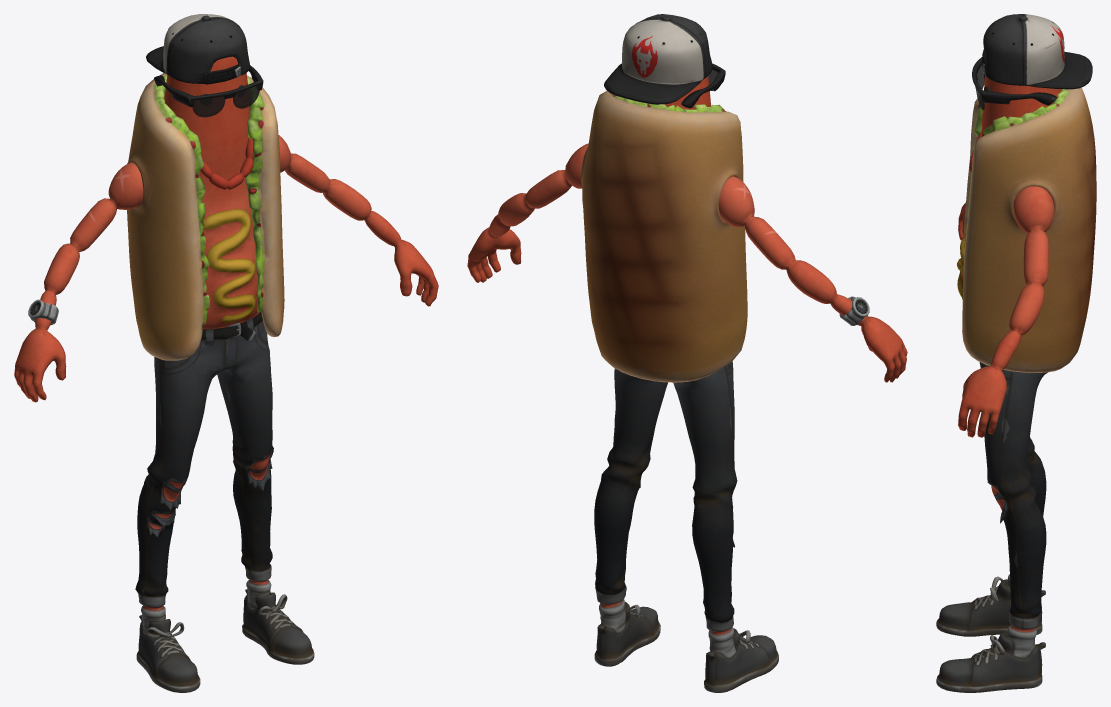
Rendered from cid_614__athena__commando_m__missing_link.glb.
3 renders of one model, left to right at view 1: azimuth 30°, elevation 25°; view 2: azimuth 150°, elevation 25°; view 3: azimuth 270°, elevation 25°, orthographic. The views are drawn at different scales.
Visible parts, largest first — view 1: 41_mesh0.001_1.0_0_0_0, 41_mesh2.001_1.0_0_0_2, 41_mesh3.001_1.0_0_0_3, 41_mesh1.001_1.0_0_0_1, 41_mesh2.001_1.0_0_0.001_6; view 2: 41_mesh0.001_1.0_0_0_0, 41_mesh2.001_1.0_0_0_2; view 3: 41_mesh0.001_1.0_0_0_0, 41_mesh2.001_1.0_0_0_2, 41_mesh3.001_1.0_0_0_3, 41_mesh2.001_1.0_0_0.001_6.
Boxes of the visible parts, x1=… form: 41_mesh0.001_1.0_0_0_0: x1=14, y1=73, x2=438, y2=692; 41_mesh2.001_1.0_0_0_2: x1=146, y1=14, x2=250, y2=84; 41_mesh3.001_1.0_0_0_3: x1=164, y1=56, x2=249, y2=175; 41_mesh1.001_1.0_0_0_1: x1=192, y1=84, x2=260, y2=117; 41_mesh2.001_1.0_0_0.001_6: x1=154, y1=65, x2=263, y2=107; 41_mesh0.001_1.0_0_0_0: x1=467, y1=91, x2=907, y2=692; 41_mesh2.001_1.0_0_0_2: x1=604, y1=14, x2=712, y2=104; 41_mesh0.001_1.0_0_0_0: x1=936, y1=87, x2=1096, y2=692; 41_mesh2.001_1.0_0_0_2: x1=982, y1=14, x2=1092, y2=89; 41_mesh3.001_1.0_0_0_3: x1=981, y1=74, x2=1061, y2=136; 41_mesh2.001_1.0_0_0.001_6: x1=972, y1=57, x2=1056, y2=105.
Bounding box in the file's own units: 1.22 × 1.78 × 0.4036.
Materials: 5 (3 with a texture image).
